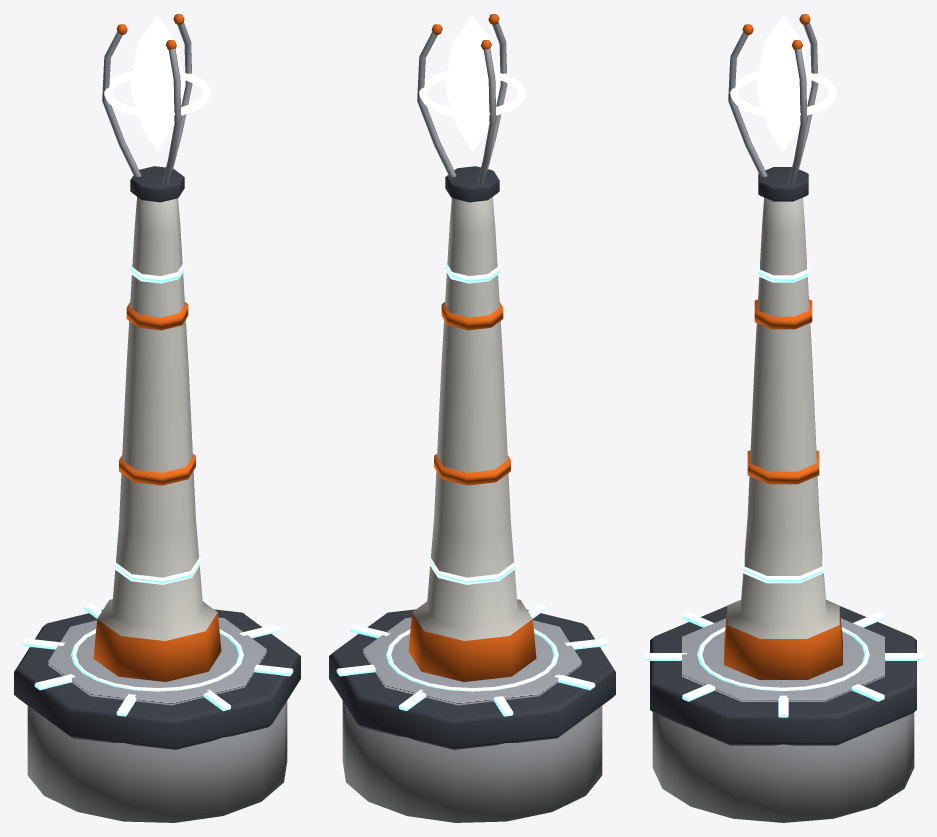
Rendered from beacon_pylon.glb.
3 renders of one model, left to right at view 1: azimuth 30°, elevation 25°; view 2: azimuth 150°, elevation 25°; view 3: azimuth 270°, elevation 25°, orthographic.
Parts seen in each view (by area): view 1: Body; view 2: Body; view 3: Body.
Boxes of the visible parts, <box> form: Body: <box>14,14,300,822</box>; Body: <box>329,14,615,822</box>; Body: <box>644,14,922,822</box>.
Size of the model in its own units: 2.66 by 7.92 by 2.66.
